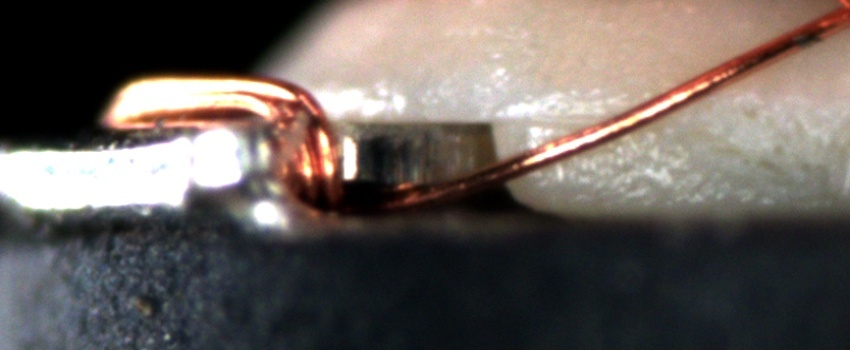DL: (526, 101, 601, 141)
TE: (108, 63, 343, 203)
